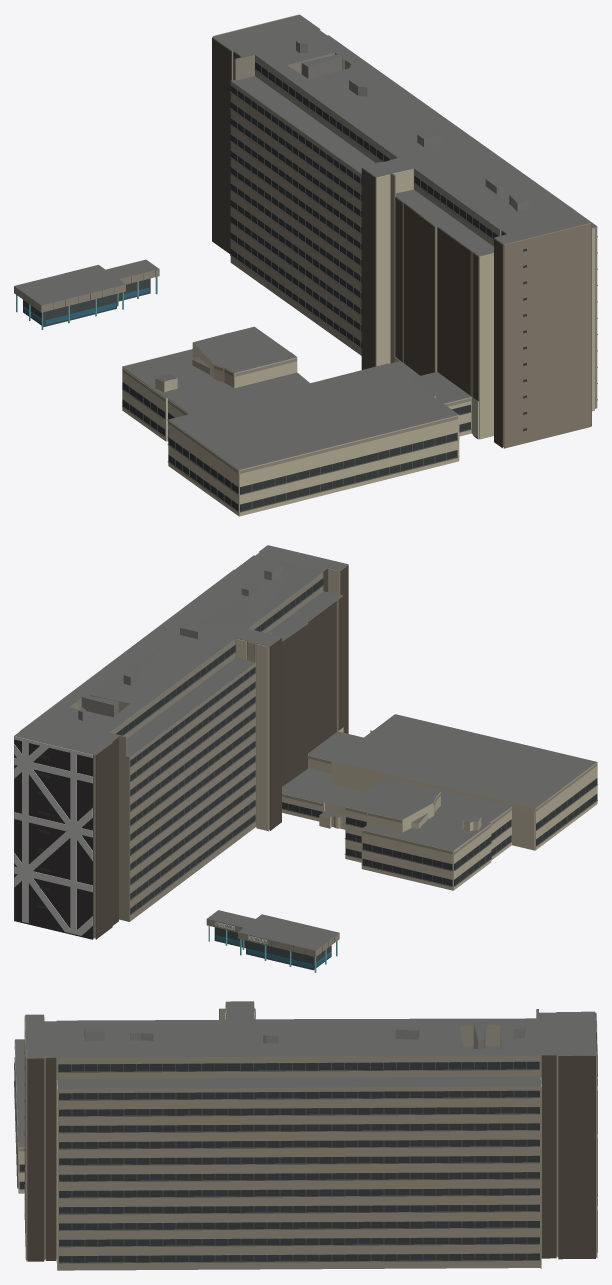
File: radion.glb
3 renders of one model, top to bottom at view 1: azimuth 30°, elevation 25°; view 2: azimuth 150°, elevation 25°; view 3: azimuth 270°, elevation 25°, orthographic. The views are drawn at different scales.
Parts seen in each view (by area): view 1: radion; view 2: radion; view 3: radion.
Part boxes in pixels (x1=…): radion: x1=14, y1=14, x2=597, y2=516; radion: x1=14, y1=545, x2=597, y2=972; radion: x1=14, y1=1001, x2=597, y2=1270.
Bounding box in the file's own units: 81.06 × 43.23 × 107.
